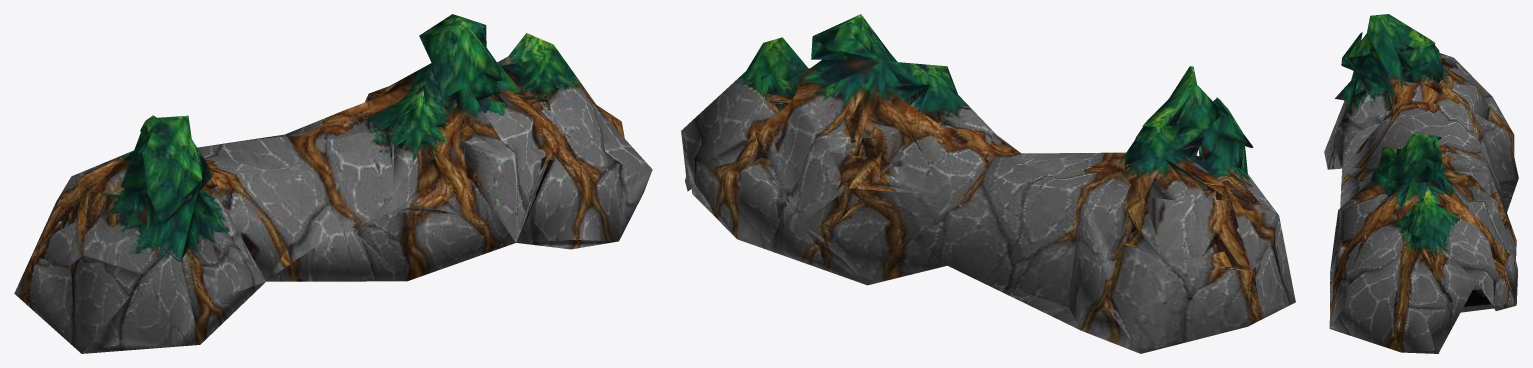
File: wall.glb
3 views of the same model, side by side, from view 1: azimuth 30°, elevation 25°; view 2: azimuth 150°, elevation 25°; view 3: azimuth 270°, elevation 25° (orthographic). The views are drawn at different scales.
Parts seen in each view (by area): view 1: Wall.001; view 2: Wall.001; view 3: Wall.001.
Part boxes in pixels (x1=…): Wall.001: x1=14, y1=14, x2=652, y2=353; Wall.001: x1=681, y1=14, x2=1295, y2=353; Wall.001: x1=1324, y1=14, x2=1518, y2=353.
Size of the model in its own units: 1.88 by 0.6537 by 0.6985.
Materials: 1 (1 with a texture image).
